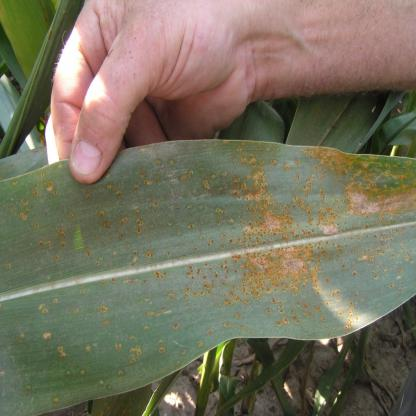corn rust leaf: (2, 142, 416, 389)
